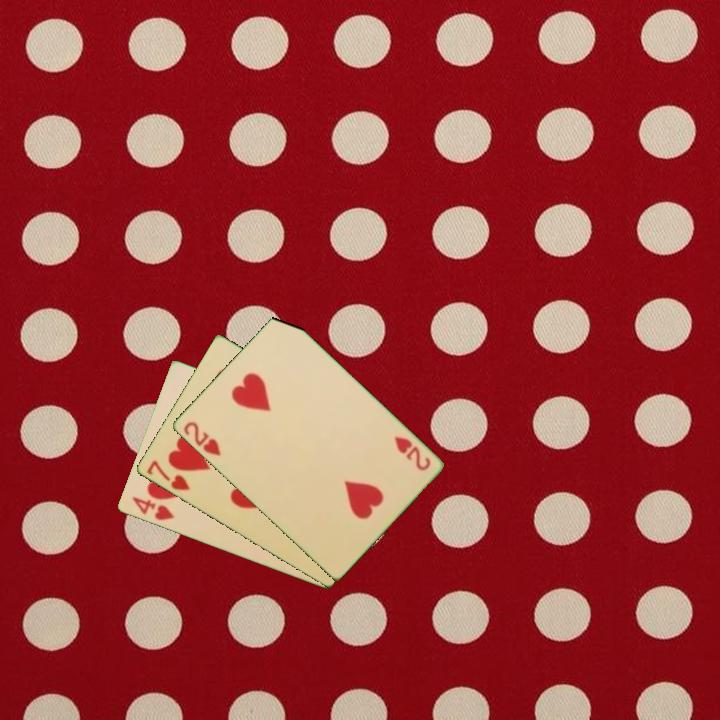2h: (179, 418, 223, 459), (390, 433, 433, 474)
4h: (128, 493, 176, 523)
7h: (143, 457, 193, 494)
